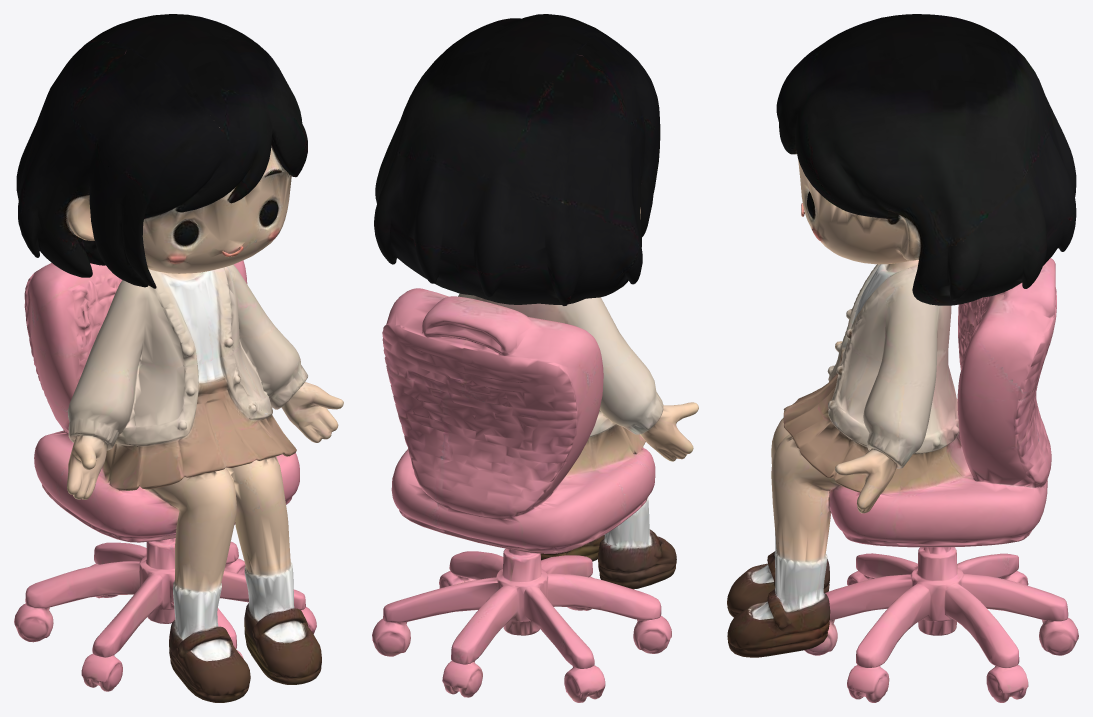
Rendered from seat_female.glb.
3 renders of one model, left to right at view 1: azimuth 30°, elevation 25°; view 2: azimuth 150°, elevation 25°; view 3: azimuth 270°, elevation 25°, orthographic. The views are drawn at different scales.
Size of the model in its own units: 0.8674 by 1.9 by 0.9699.
1 material, 1 textured.
